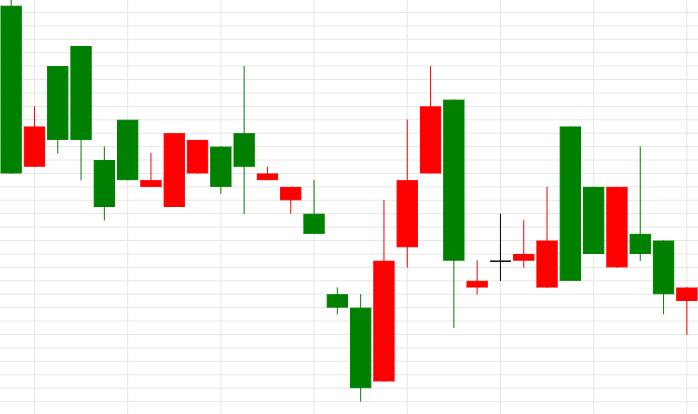three_white_soldiers_rise: (233, 64, 441, 402)
